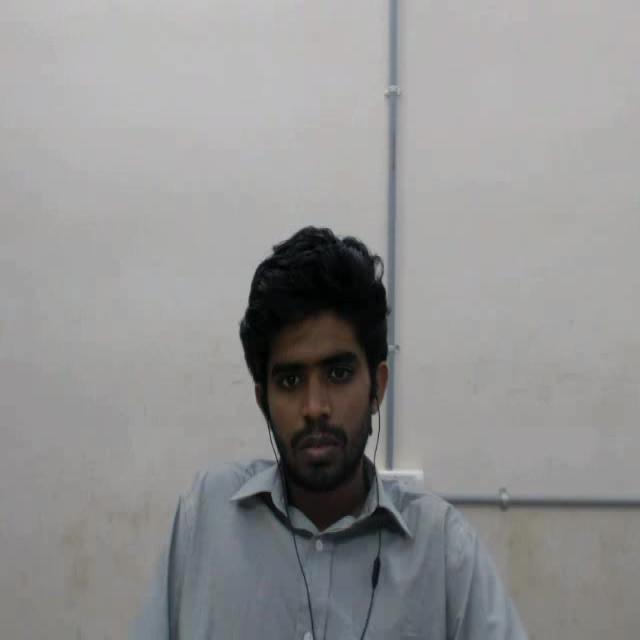Engaged: (228, 192, 404, 519)
